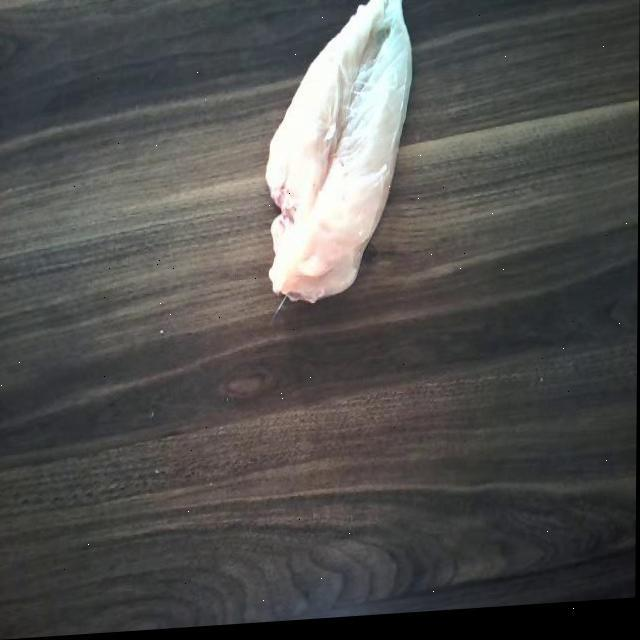breast: (269, 0, 417, 311)
